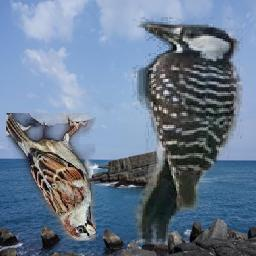Sparrow: (6, 113, 96, 241)
Woodpecker: (132, 18, 244, 245)
